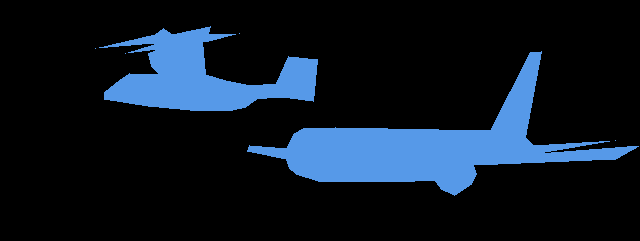Airplane: (247, 51, 640, 195), (95, 26, 317, 110)
